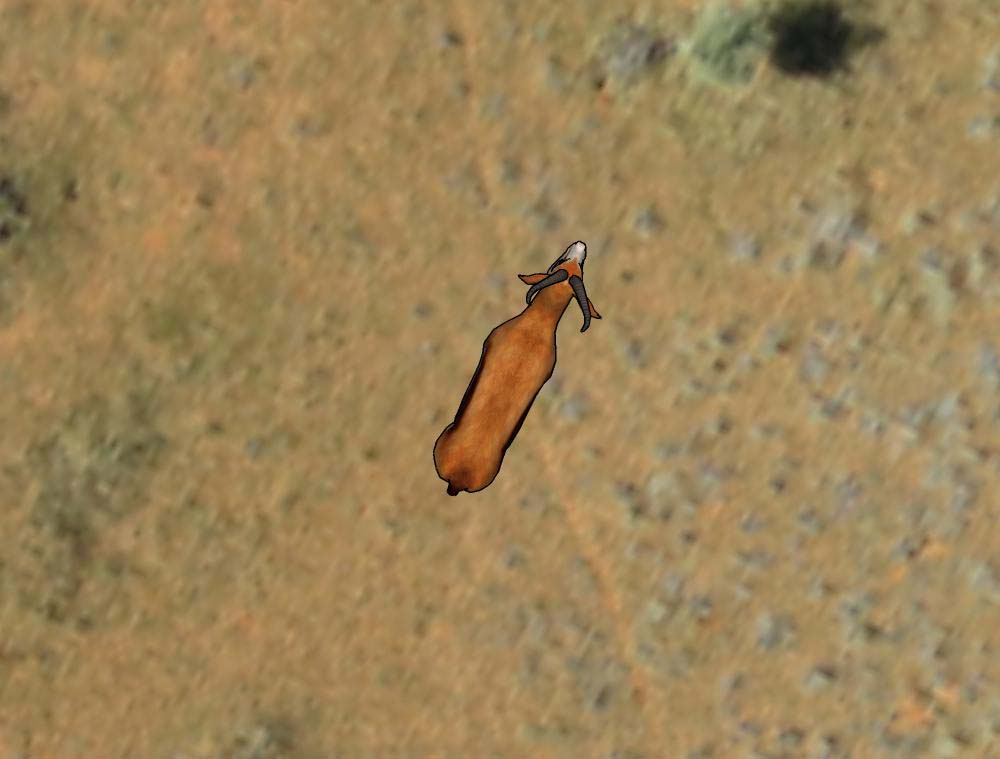springbok: (422, 234, 609, 500)
